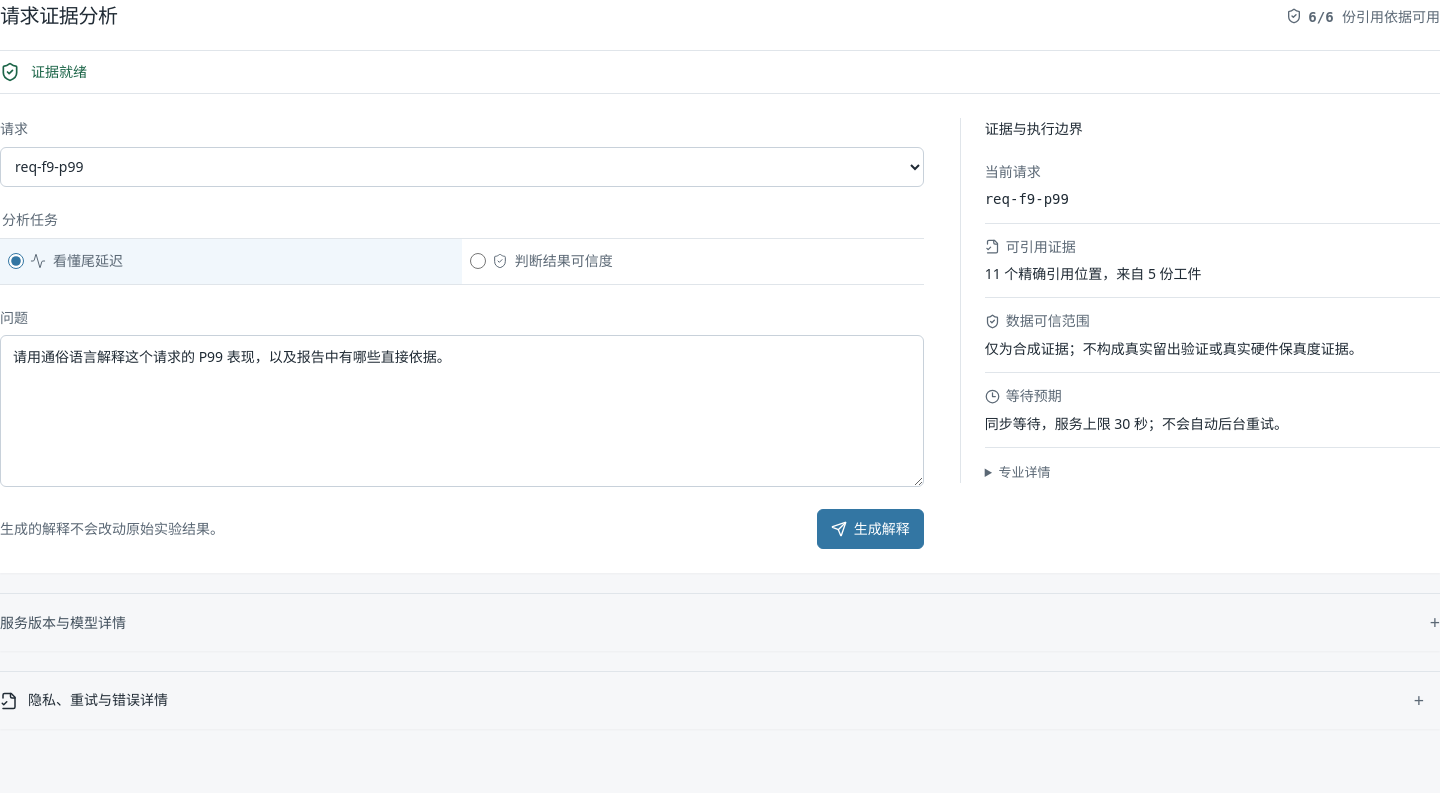
Test: F9 evidence Agent presentation › turns only descriptor-supported task kinds into plain-language cards and previews the frozen scope
Expected: the number of radio buttons is 2, [8,253,24,269]; [470,253,486,269]
Expected: the element with class "evidence-agent-task-cards" shows "看懂尾延迟", [53,251,123,270]
Click the heading "专业详情": point(1024, 472) [998,463,1050,481]
(page scrolled)
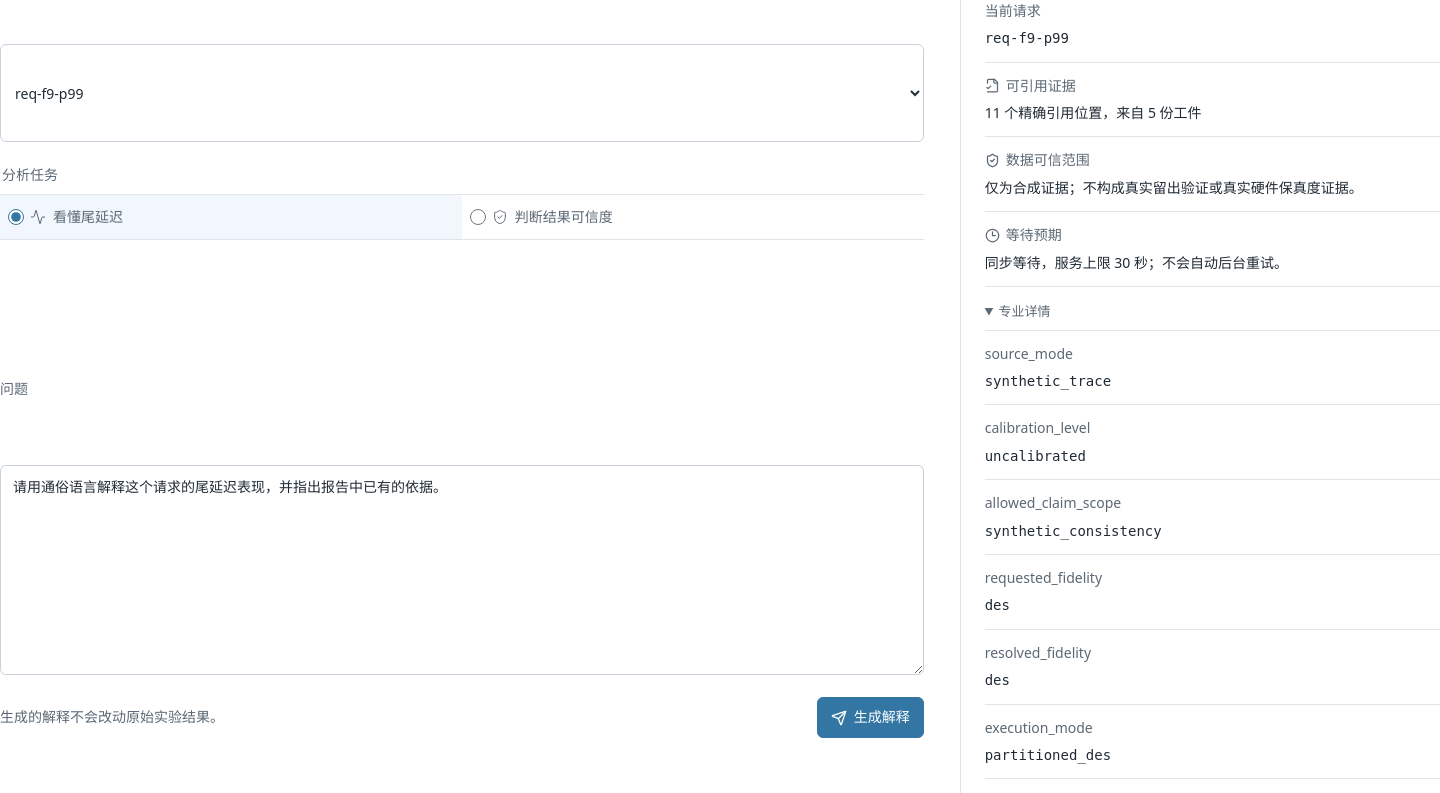
Expected: the element with class "evidence-agent-submission-preview" shows "synthetic_trace", [985,373,1111,389]
Expected: the element with class "evidence-agent-submission-preview" shows "requested_fidelity", [985,568,1102,587]
Expected: the element with class "evidence-agent-submission-preview" shows "resolved_fidelity", [985,643,1091,662]
